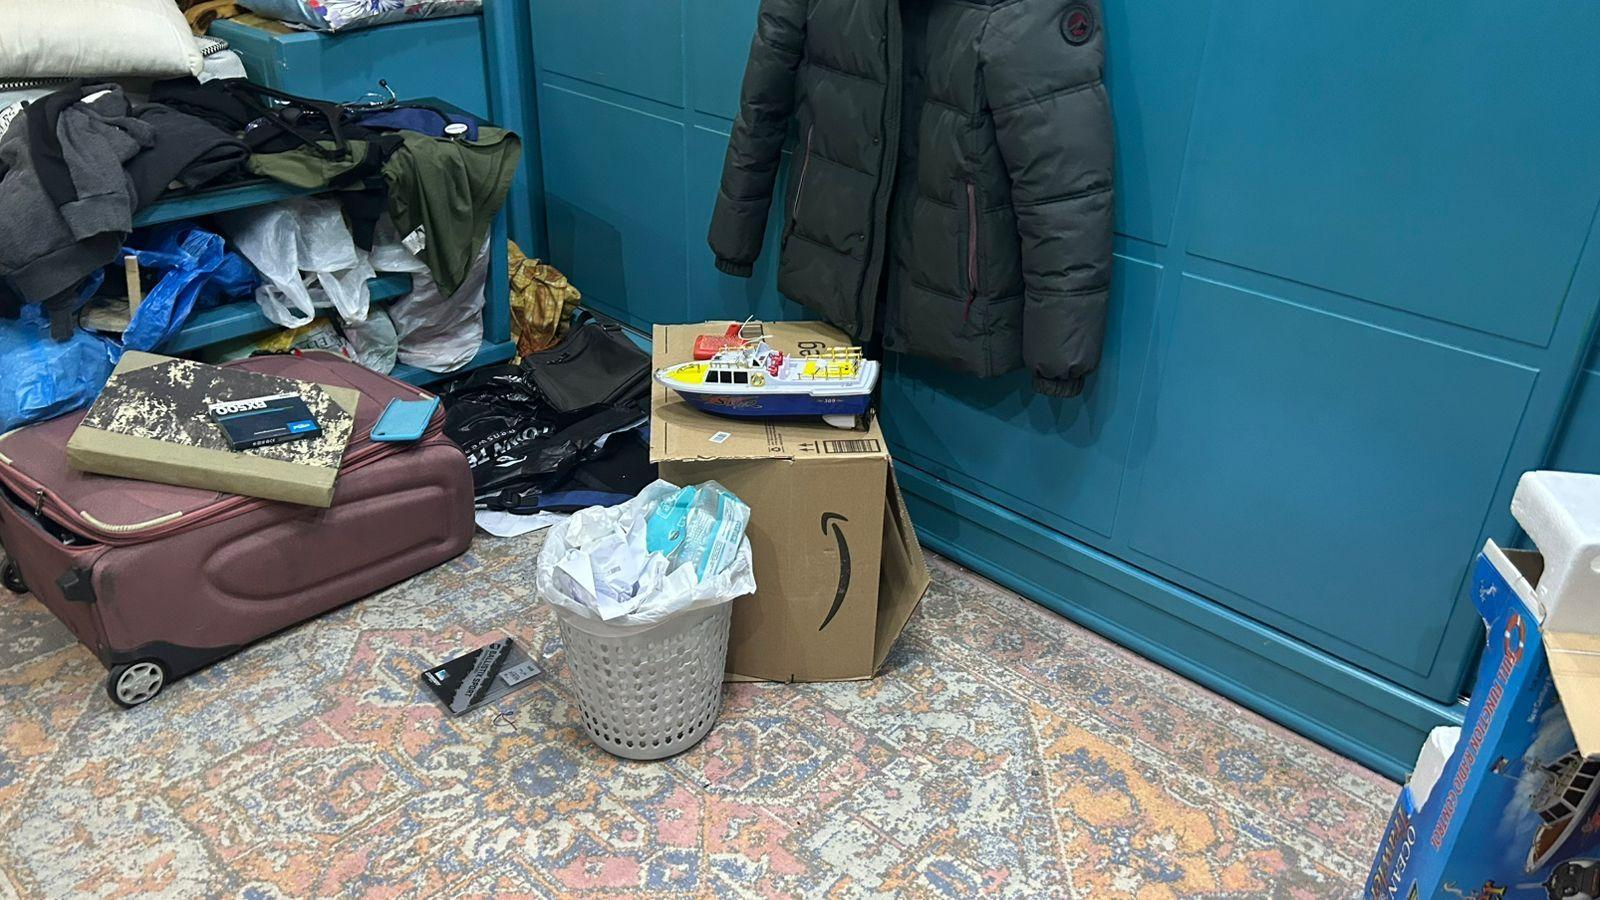Boat: (646, 343, 888, 436)
